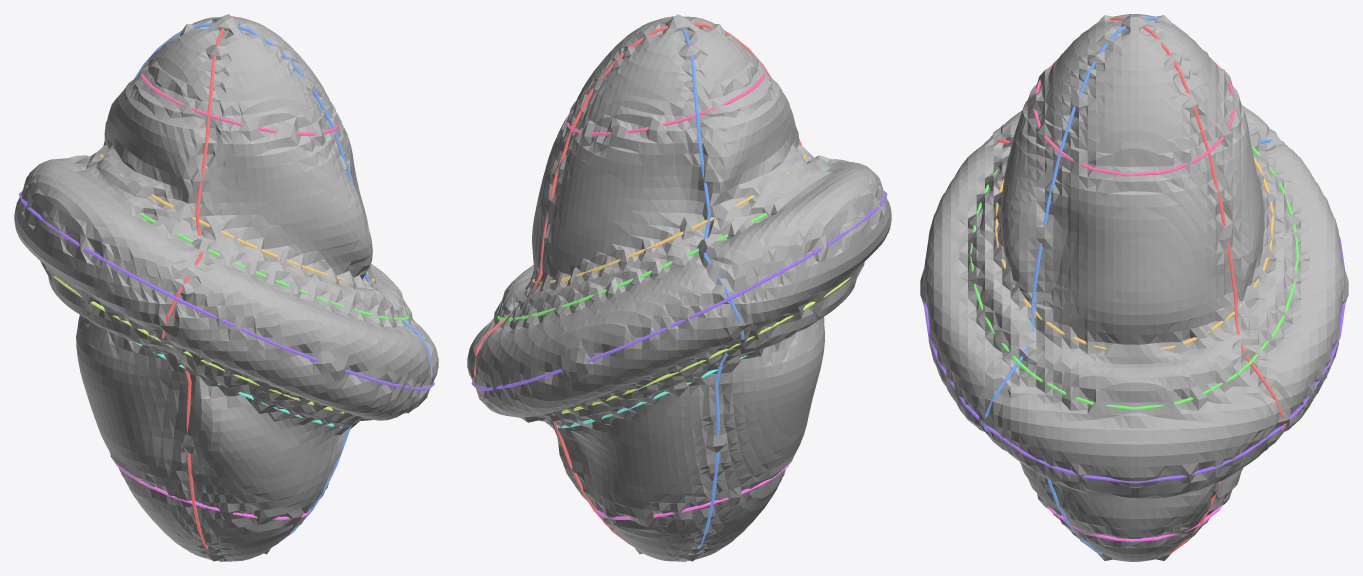
Rendered from flowrep_ellipsetorus.gltf.
3 renders of one model, left to right at view 1: azimuth 30°, elevation 25°; view 2: azimuth 150°, elevation 25°; view 3: azimuth 270°, elevation 25°, orthographic.
Size of the model in its own units: 0.503 by 0.7226 by 0.5149.
